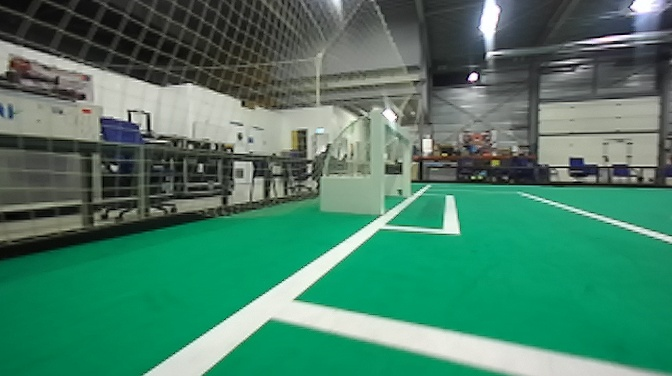goalpost: (360, 105, 385, 213), (397, 132, 414, 199)
